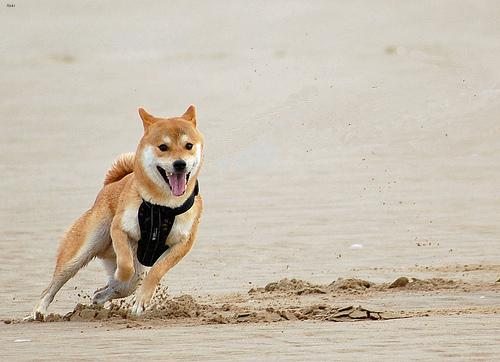dog-shiba_inu: (136, 104, 202, 195)
